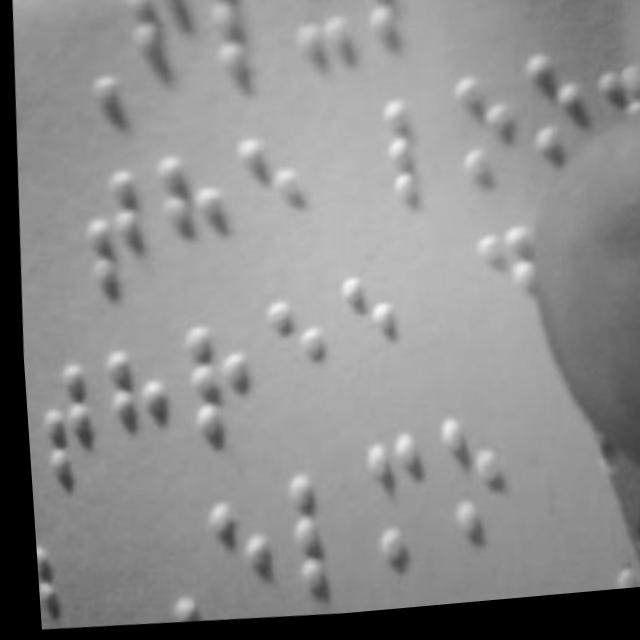braiile: (91, 337, 171, 494), (146, 147, 227, 300), (18, 348, 96, 502), (426, 415, 513, 552), (229, 128, 307, 279), (351, 435, 432, 580), (273, 471, 357, 609), (169, 316, 253, 453), (75, 163, 152, 307), (443, 68, 522, 205), (519, 53, 598, 190), (326, 263, 402, 402), (196, 489, 271, 625), (254, 293, 329, 425), (118, 0, 196, 111), (376, 97, 443, 219), (201, 0, 279, 97), (277, 0, 358, 81), (352, 0, 429, 56), (424, 0, 500, 43), (562, 0, 623, 15)
